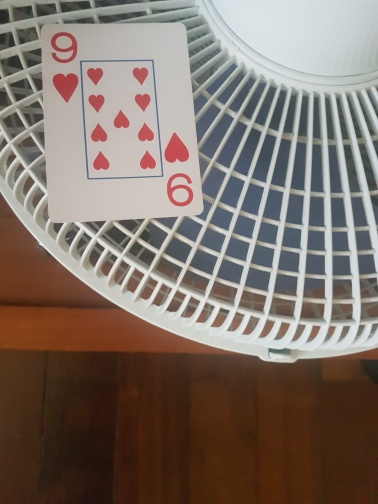nine: (41, 23, 203, 223)
